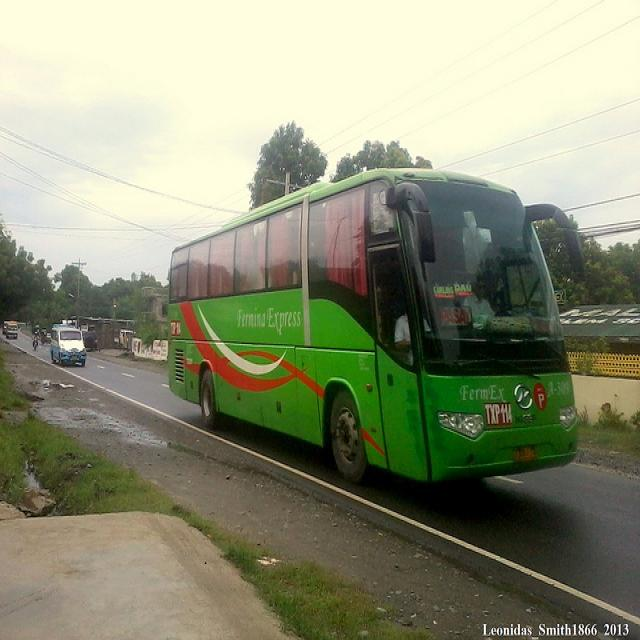motor: (32, 337, 40, 350)
